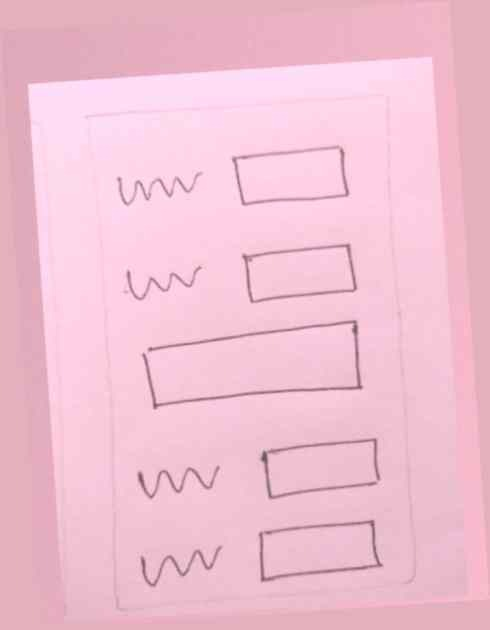text: (129, 446, 225, 516), (127, 534, 231, 597), (115, 248, 213, 313), (108, 161, 208, 212)
text_input: (129, 313, 381, 426), (218, 135, 366, 216), (252, 514, 393, 592), (249, 430, 391, 506), (230, 234, 366, 308)
